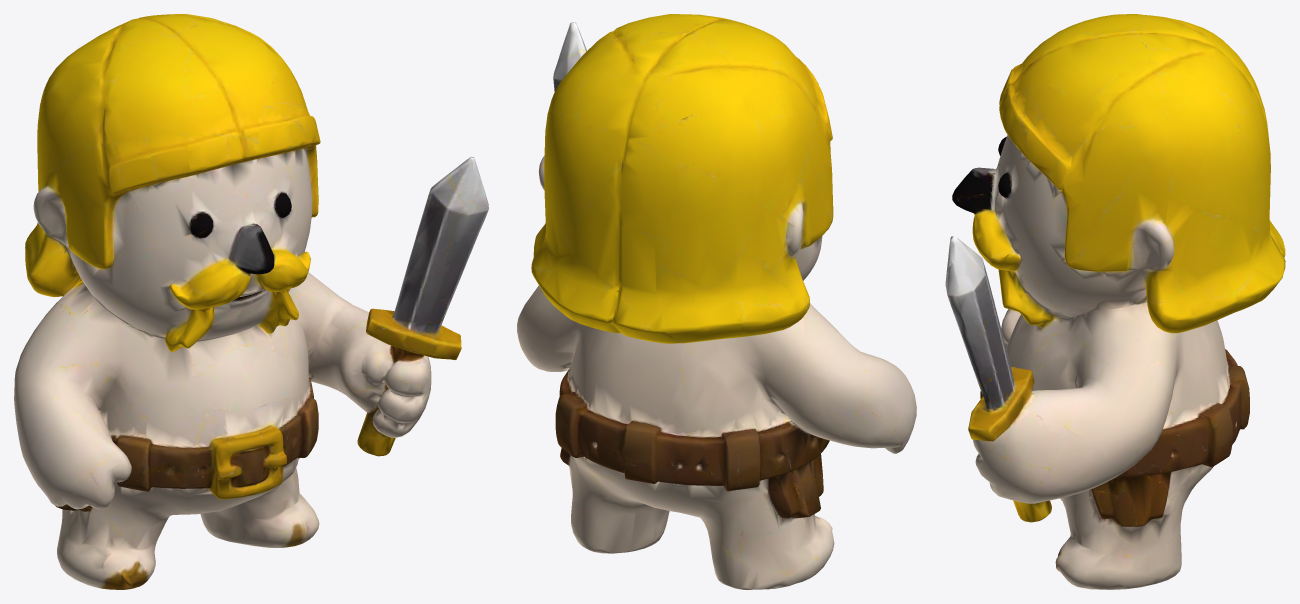
Rendered from Barbaro.glb.
3 views of the same model, side by side, from view 1: azimuth 30°, elevation 25°; view 2: azimuth 150°, elevation 25°; view 3: azimuth 270°, elevation 25° (orthographic). The views are drawn at different scales.
Size of the model in its own units: 1.56 by 1.9 by 1.16.
1 material, 1 textured.
